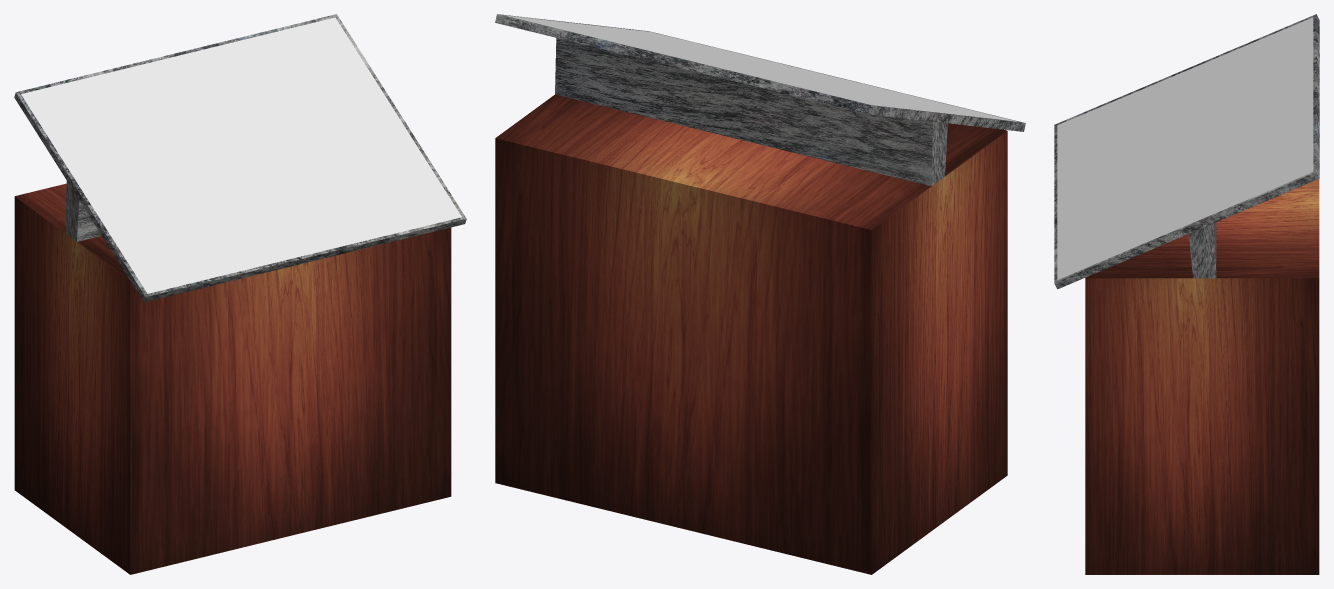
File: Pedestal.FBX
The picture shows the model from 3 angles, left to right: view 1: azimuth 30°, elevation 25°; view 2: azimuth 150°, elevation 25°; view 3: azimuth 270°, elevation 25°; orthographic projection. The views are drawn at different scales.
Parts seen in each view (by area): view 1: Object003, Glass, Object001, Object002; view 2: Object003, Object002, Glass, Object001; view 3: Object003, Glass, Object001, Object002.
Part boxes in pixels (left/top/right/bottom): Object003: left=14, top=183, right=451, bottom=574; Glass: left=21, top=17, right=461, bottom=293; Object001: left=14, top=14, right=466, bottom=302; Object002: left=65, top=180, right=101, bottom=241; Object003: left=495, top=94, right=1007, bottom=574; Object002: left=555, top=38, right=947, bottom=186; Glass: left=504, top=15, right=1017, bottom=121; Object001: left=495, top=14, right=1025, bottom=131; Object003: left=1085, top=179, right=1319, bottom=574; Glass: left=1057, top=17, right=1313, bottom=279; Object001: left=1054, top=14, right=1319, bottom=289; Object002: left=1188, top=222, right=1216, bottom=278.
Size of the model in its own units: 240 by 285 by 170.
